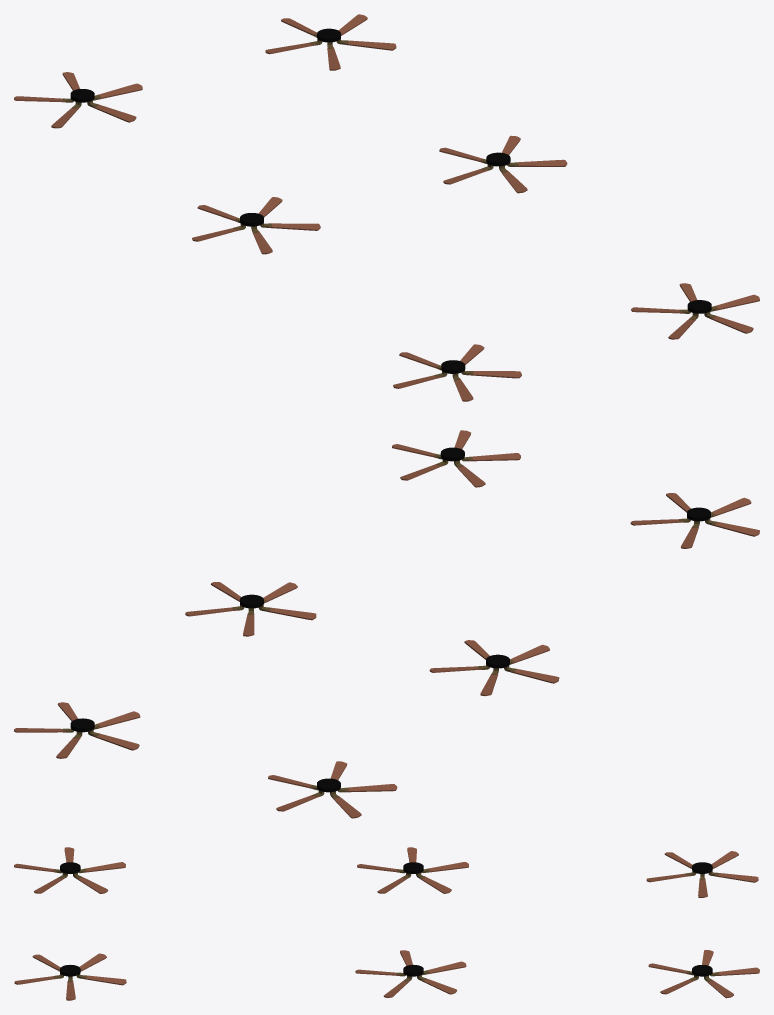
File: FAN_P222.glb
The picture shows the model from 3 angles, top to bottom: view 1: azimuth 30°, elevation 25°; view 2: azimuth 150°, elevation 25°; view 3: azimuth 270°, elevation 25°; orthographic projection. The views are drawn at different scales.
Visible parts, largest first — view 1: Cylinder.002; view 2: Cylinder.002; view 3: Cylinder.002, Cube.075, Cube.080.
Boxes of the visible parts, box(x1,y1,x2,y2) form: Cylinder.002: box(192, 197, 320, 254); Cylinder.002: box(429, 640, 559, 696); Cylinder.002: box(357, 847, 468, 893); Cube.075: box(708, 870, 758, 882); Cube.080: box(76, 973, 126, 985).
Bounding box in the file's own units: 255 × 5.62 × 528.
